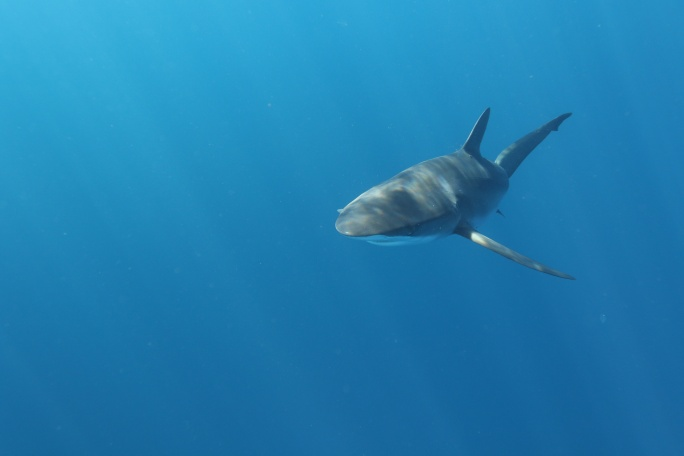Sedoso: (323, 102, 598, 287)
